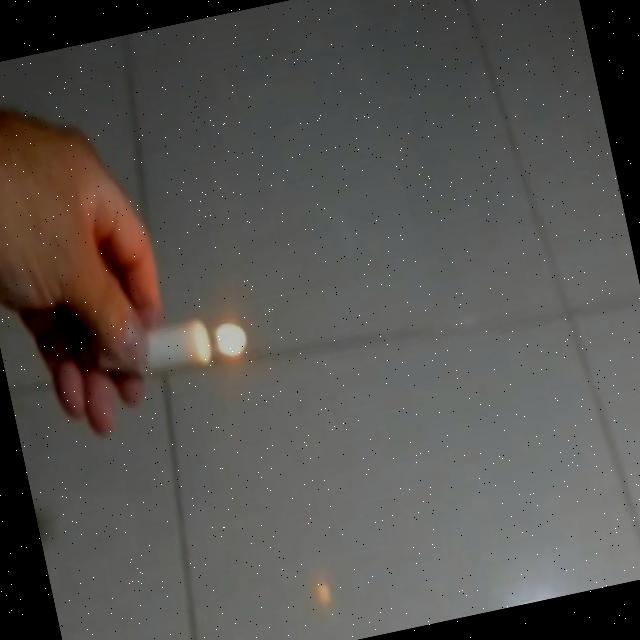fire: (209, 318, 250, 362)
